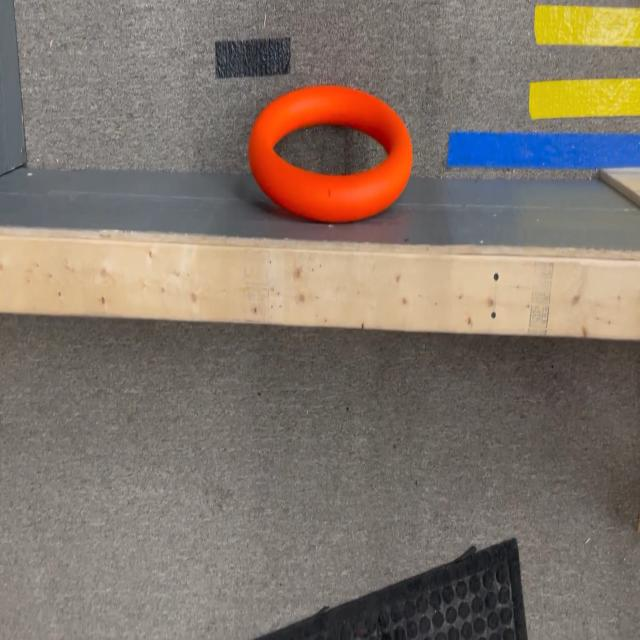note: (247, 84, 411, 224)
